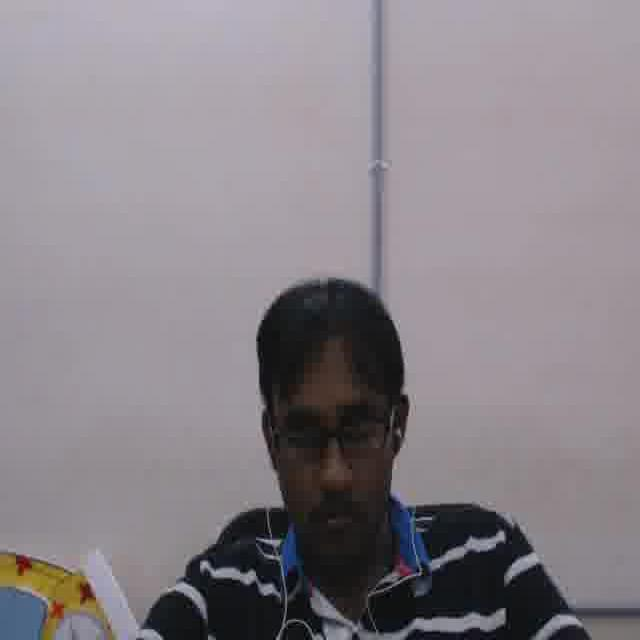Engaged: (276, 360, 394, 563)
